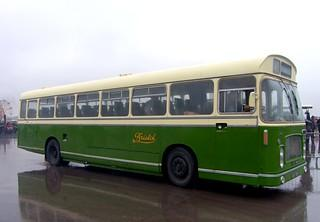bus: (19, 51, 305, 189)
